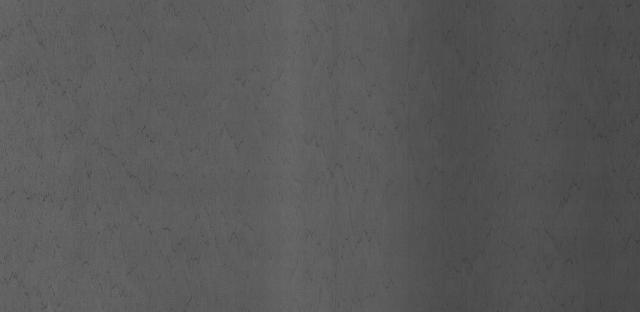silk_spot: (21, 39, 228, 212)
